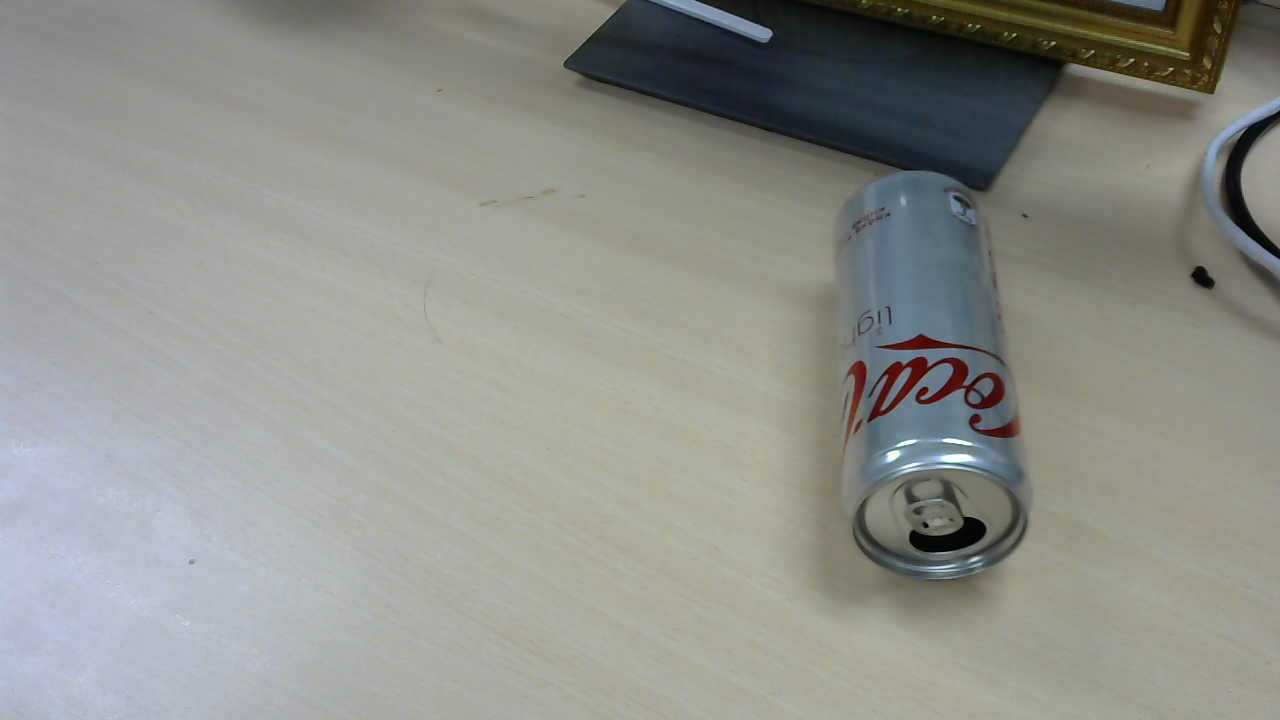Coca_Cola: (837, 174, 1040, 591)
